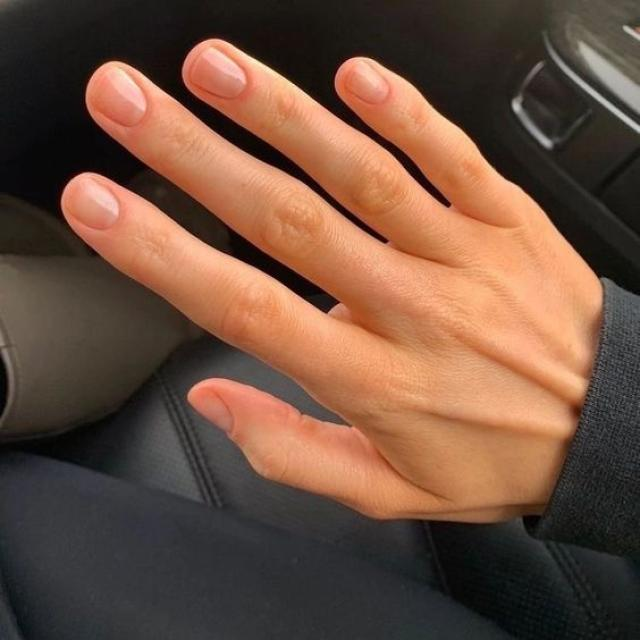Fingernail: (91, 68, 146, 126), (189, 47, 247, 99), (65, 178, 119, 229), (345, 61, 391, 105), (189, 389, 232, 435)
